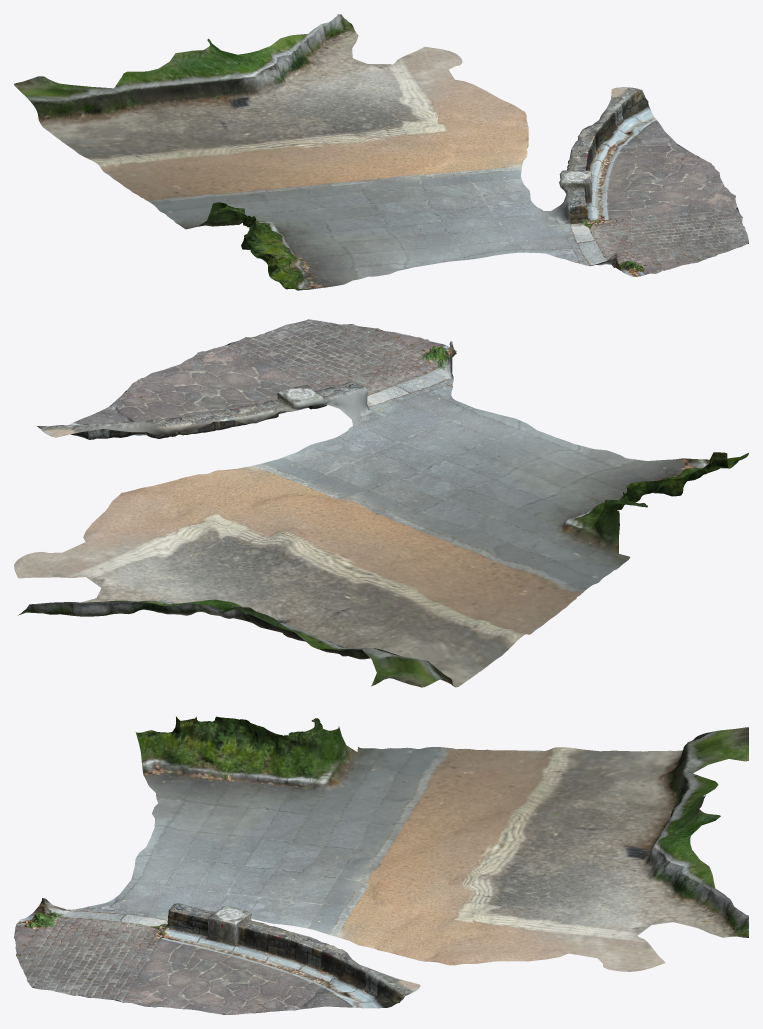
3 views of the same model, one above another, from view 1: azimuth 30°, elevation 25°; view 2: azimuth 150°, elevation 25°; view 3: azimuth 270°, elevation 25° (orthographic). The views are drawn at different scales.
Visible parts, largest first — view 1: baked_mesh_95d842bf; view 2: baked_mesh_95d842bf; view 3: baked_mesh_95d842bf.
Part boxes in pixels (bbox=[...]): baked_mesh_95d842bf: bbox=[14, 14, 748, 290]; baked_mesh_95d842bf: bbox=[14, 319, 748, 687]; baked_mesh_95d842bf: bbox=[14, 716, 748, 1014].
Size of the model in its own units: 4.97 by 0.3888 by 5.9.
1 material, 1 textured.
